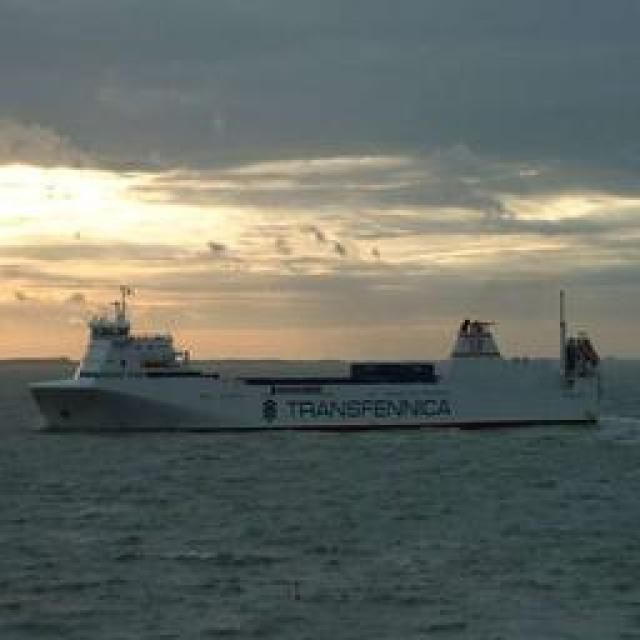CIV_Ship: (24, 302, 606, 436)
